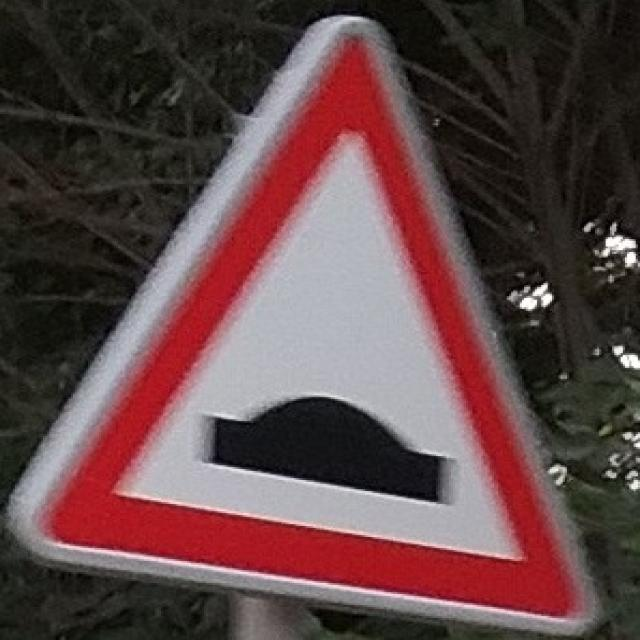HUMP_OR_ROUGH_ROAD: (18, 20, 600, 624)
